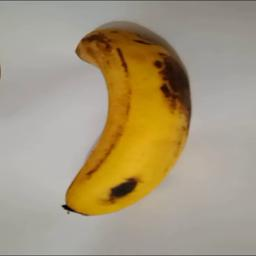Banana Semifresh: (61, 28, 193, 219)
